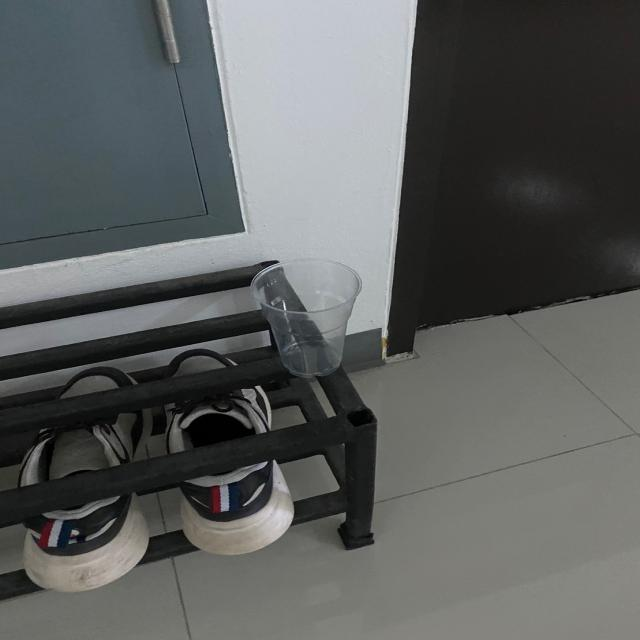glass: (250, 255, 364, 382)
